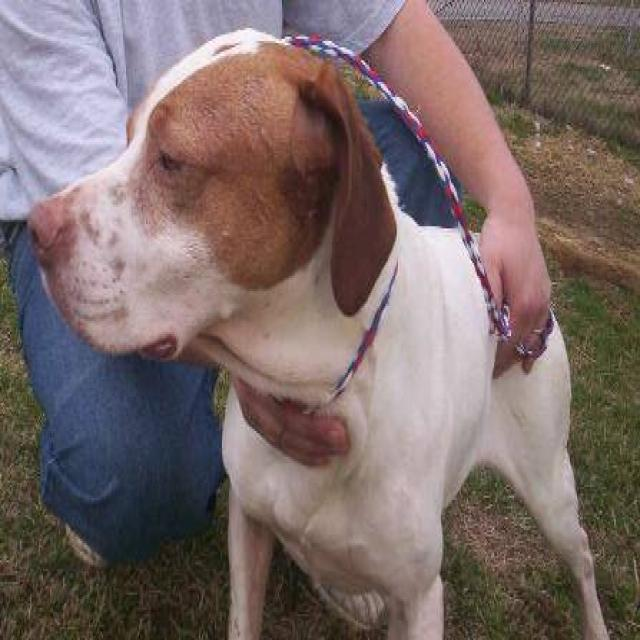dog: (26, 26, 610, 638)
